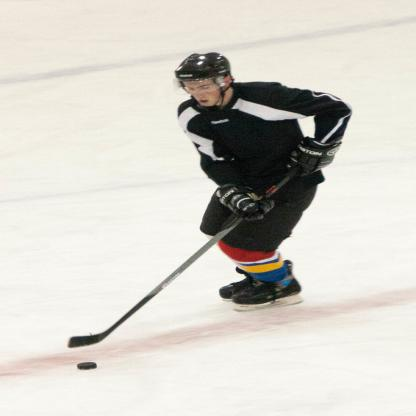Helmet: (174, 50, 242, 107)
